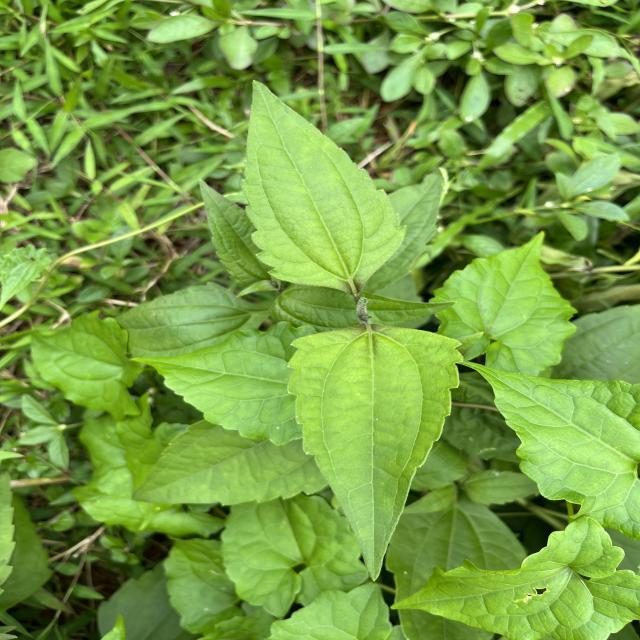Chromolaena odorata: (281, 318, 468, 586), (236, 74, 413, 300)
